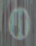Two way: (4, 5, 34, 45)
